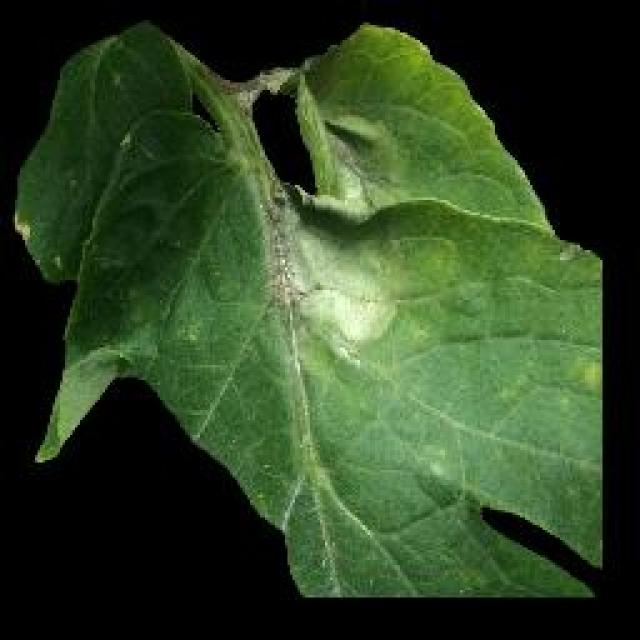Tomato Late Blight: (230, 105, 400, 358)
